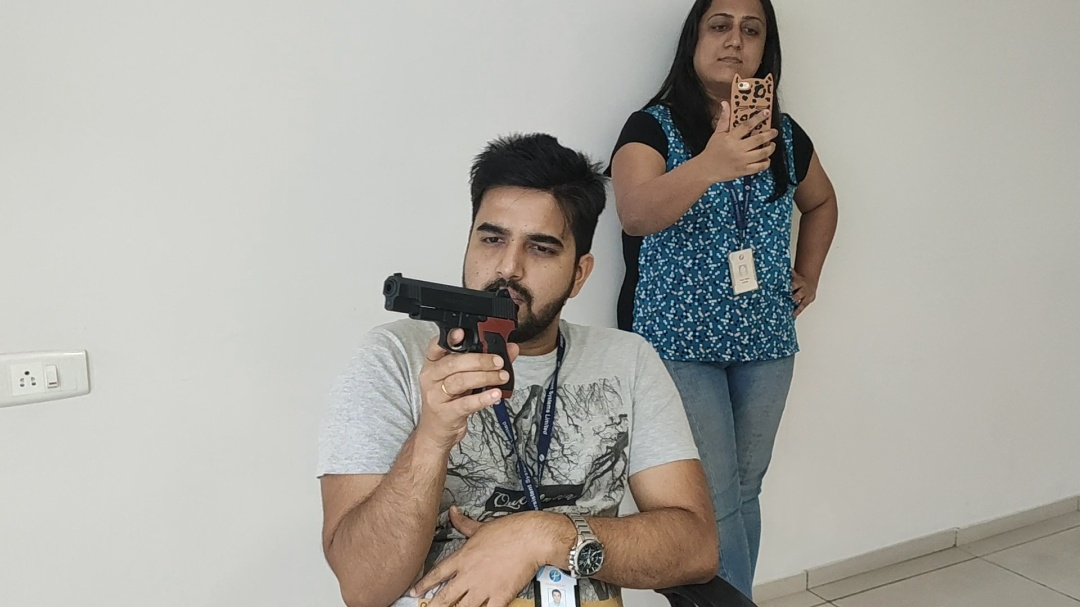gun: (381, 271, 521, 401)
